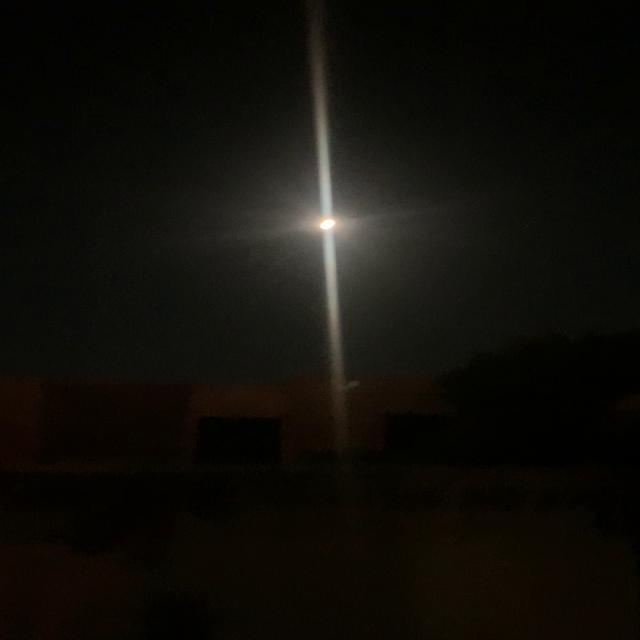moon: (306, 210, 350, 237)
